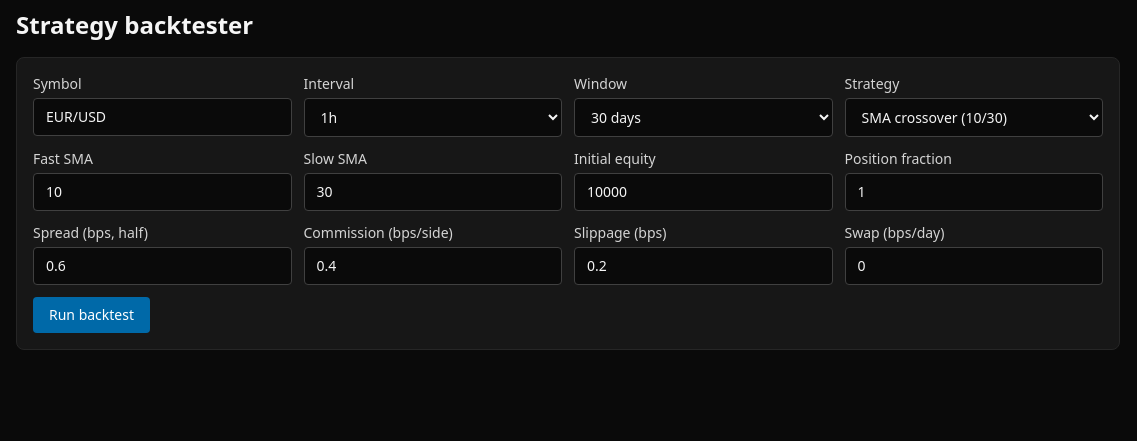
BacktestPage › surfaces a data error instead of fabricating results
The width and height of the screenshot is (1137, 441).
Click the button "Run backtest" at (92, 315), box [33,297,150,333]
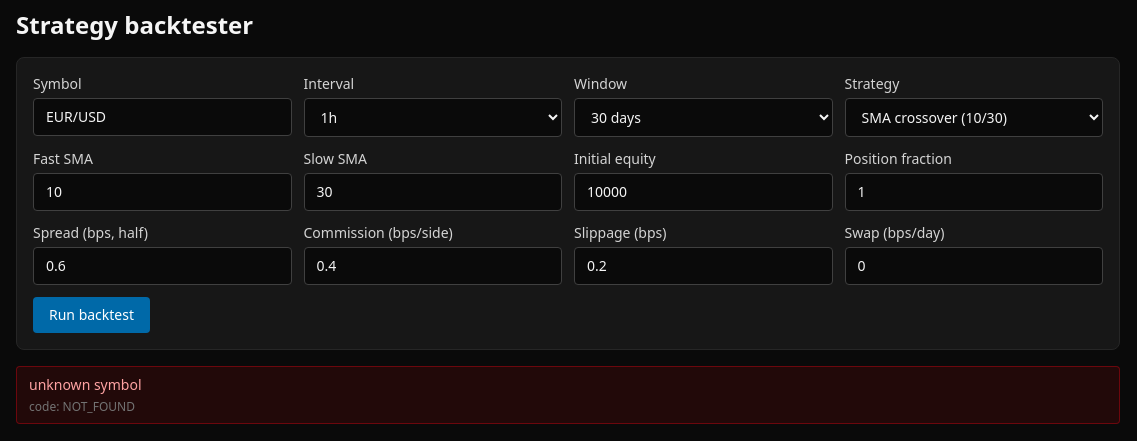
Now the message "unknown symbol code: NOT_FOUND" is shown, box [16,366,1120,424]
